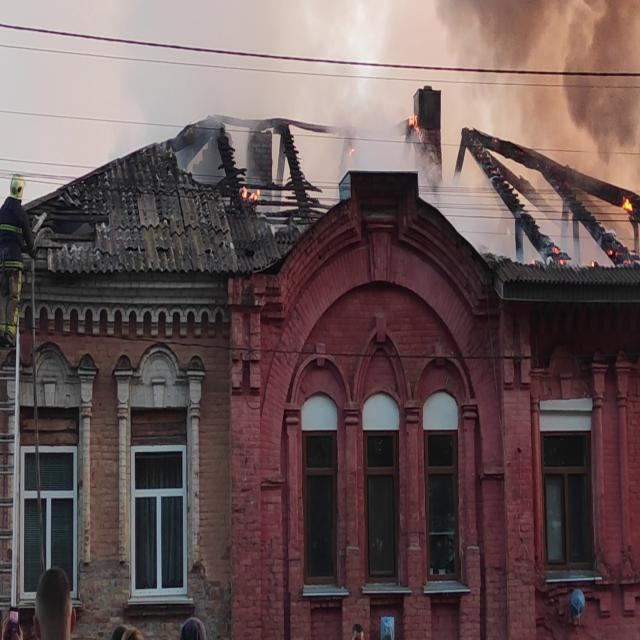smoke: (444, 0, 638, 158), (544, 199, 600, 275)
